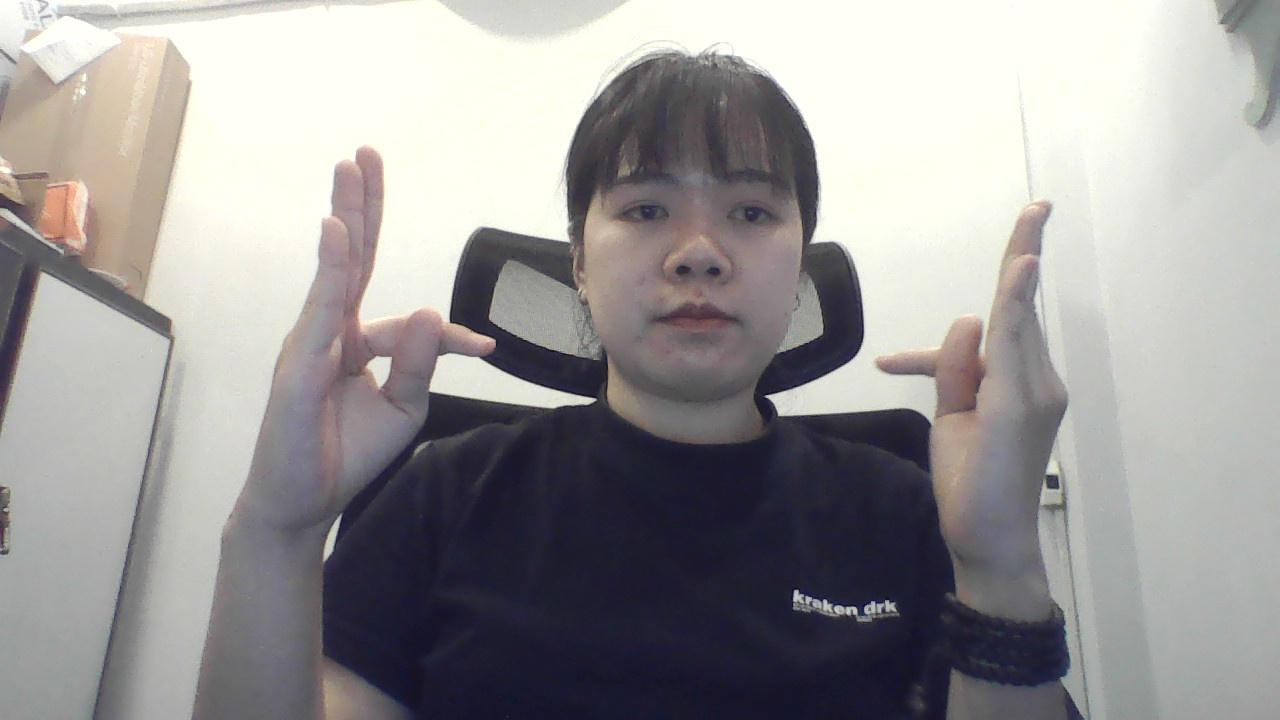T: (225, 130, 502, 546), (859, 176, 1088, 599)
